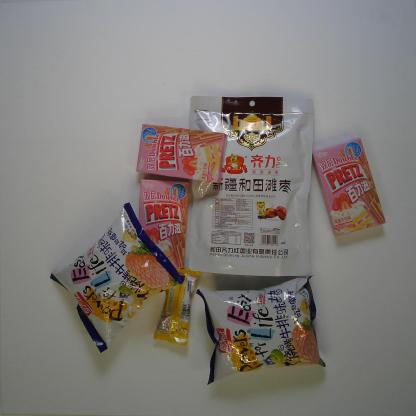Chocolate: (151, 266, 204, 349)
Dessert: (310, 135, 388, 237), (134, 122, 227, 186), (137, 177, 190, 271)
Dried Food: (184, 90, 316, 281)
Puffed Food: (49, 199, 185, 357), (196, 273, 327, 385)
